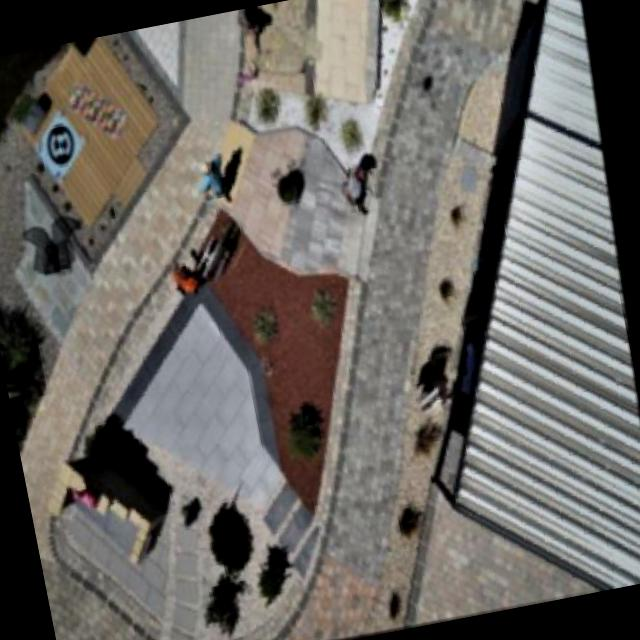Person: (336, 150, 386, 220), (196, 142, 239, 207), (168, 252, 208, 306)
